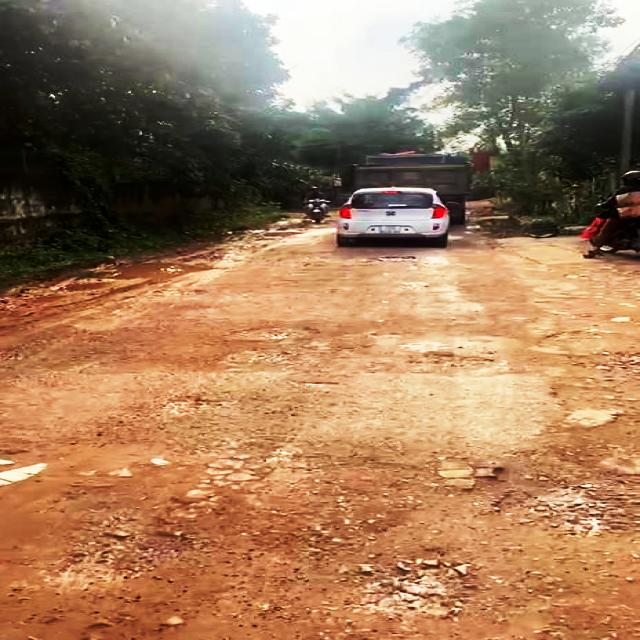pothole: (345, 553, 579, 640), (511, 326, 640, 459), (49, 494, 198, 590), (480, 459, 640, 540), (218, 324, 324, 345), (406, 350, 500, 370), (163, 391, 225, 417), (372, 253, 418, 265)
